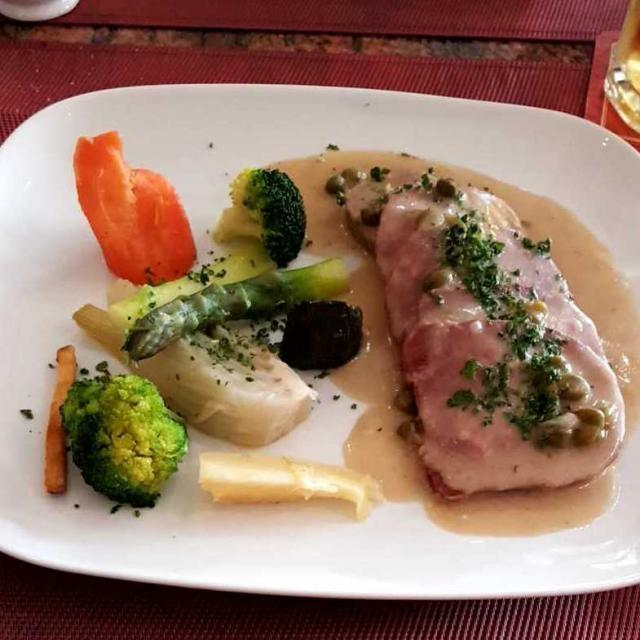beef: (338, 177, 613, 517)
broccoli: (44, 148, 622, 529)
capers: (328, 165, 616, 466)
mixed-vegetables: (56, 137, 382, 557)
sauce: (288, 155, 629, 543)
